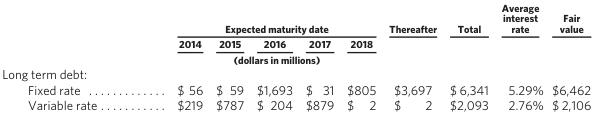table: (1, 1, 590, 111)
table column: (1, 1, 136, 111), (136, 1, 208, 111), (381, 1, 442, 111), (494, 1, 547, 111), (442, 1, 494, 111), (249, 1, 298, 111), (547, 1, 590, 111), (339, 1, 381, 111), (208, 1, 249, 111), (298, 1, 339, 111)
table column header: (1, 1, 590, 65)
table projected row header: (1, 65, 590, 81)
table row: (1, 1, 590, 35), (1, 65, 590, 81), (1, 35, 590, 50), (1, 50, 590, 65), (1, 81, 590, 96), (1, 96, 590, 111)
table spanning cell: (136, 1, 381, 35), (136, 50, 442, 65), (494, 1, 547, 65), (442, 1, 494, 65), (381, 1, 442, 50), (547, 1, 590, 65)
